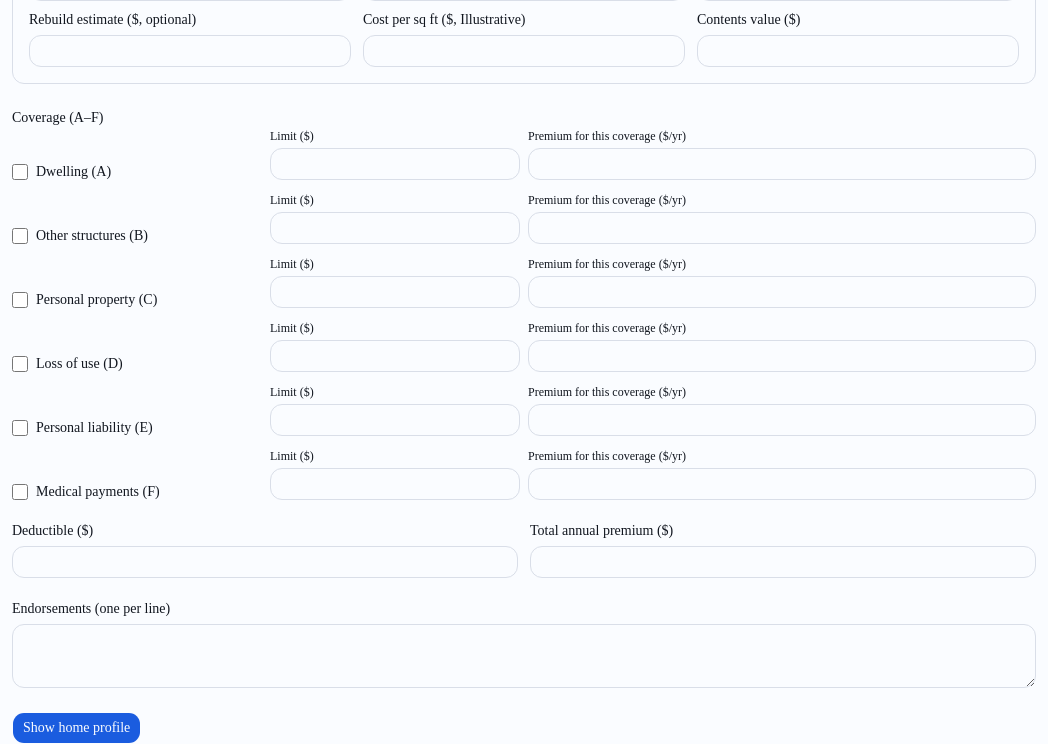
HomeProfile › notes that coverage catalog definitions are deferred (HOM-2)
(page scrolled)
Click the button "Show home profile" at (77, 728), box left=12, top=712, right=141, bottom=743
(page scrolled)
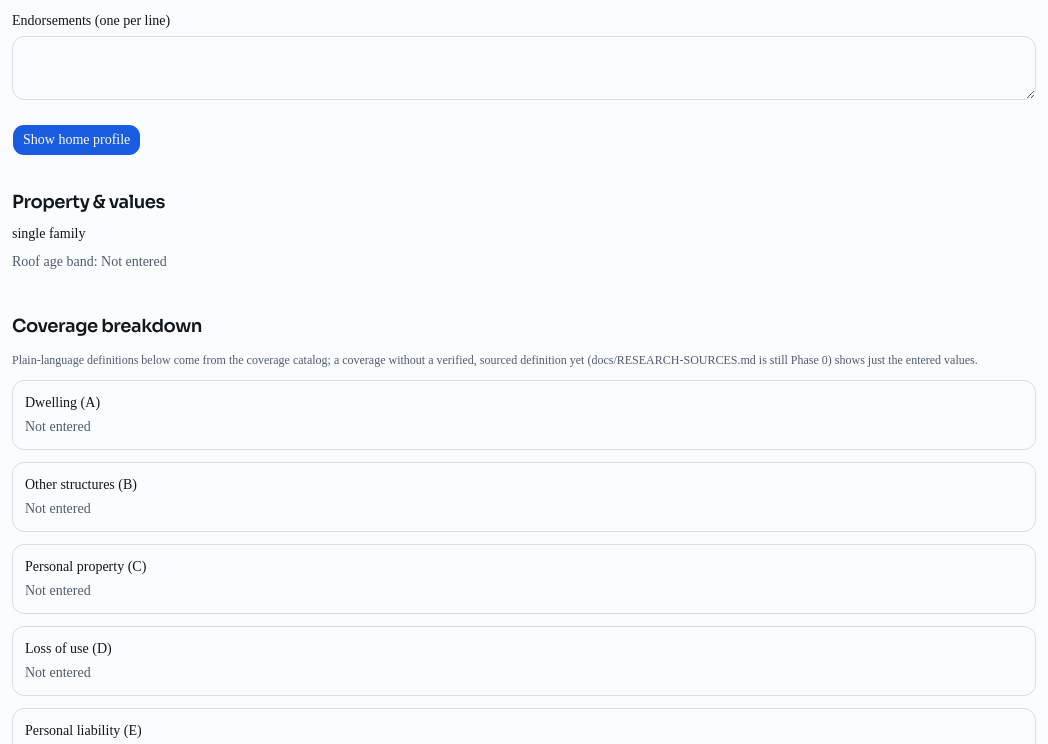
Now the text "coverage catalog" is shown, box left=12, top=353, right=978, bottom=367
